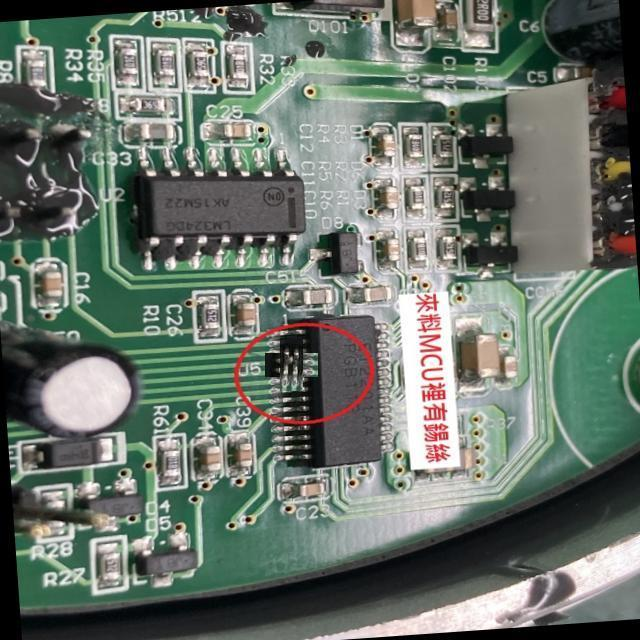damged: (272, 346, 311, 384)
